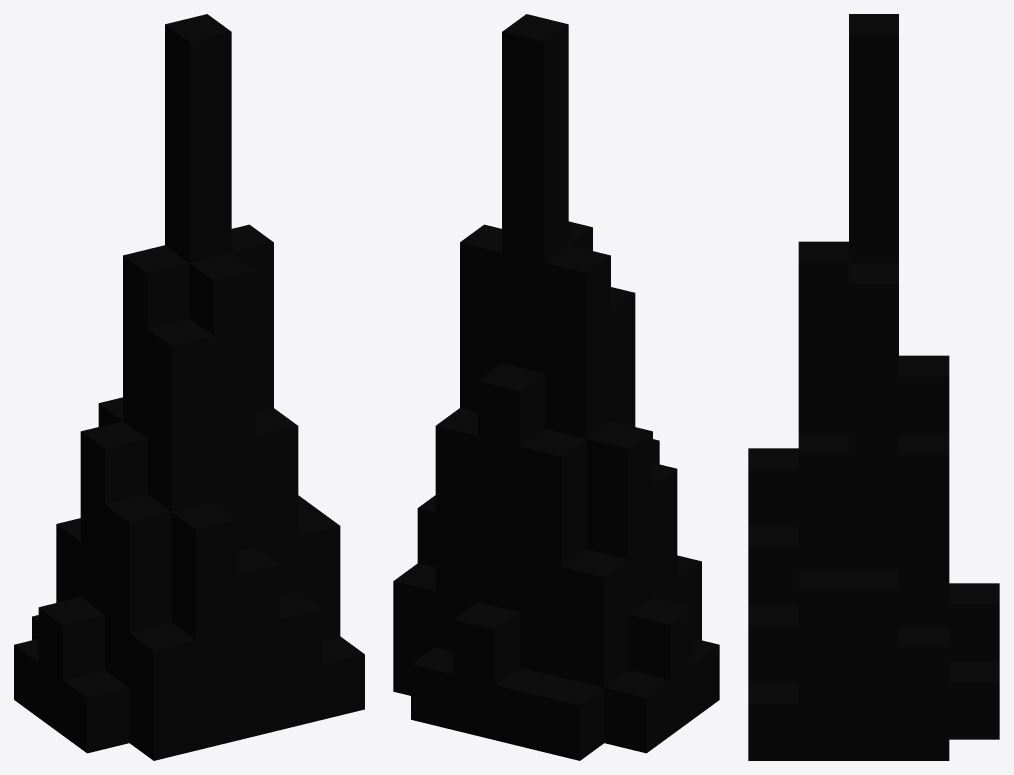
The model's file is IceCrag.obj.
3 renders of one model, left to right at view 1: azimuth 30°, elevation 25°; view 2: azimuth 150°, elevation 25°; view 3: azimuth 270°, elevation 25°, orthographic. The views are drawn at different scales.
Visible parts, largest first — view 1: IceCrag; view 2: IceCrag; view 3: IceCrag.
Boxes of the visible parts, x1,y1,x2,y2 form: IceCrag: [14, 14, 364, 760]; IceCrag: [393, 14, 719, 760]; IceCrag: [748, 14, 999, 760].
Bounding box in the file's own units: 12 × 30 × 10.
